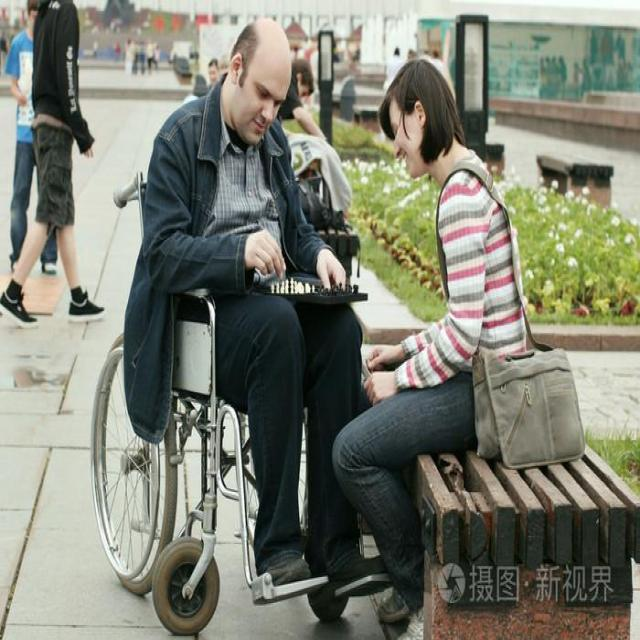wheelchairs: (80, 154, 412, 638)
